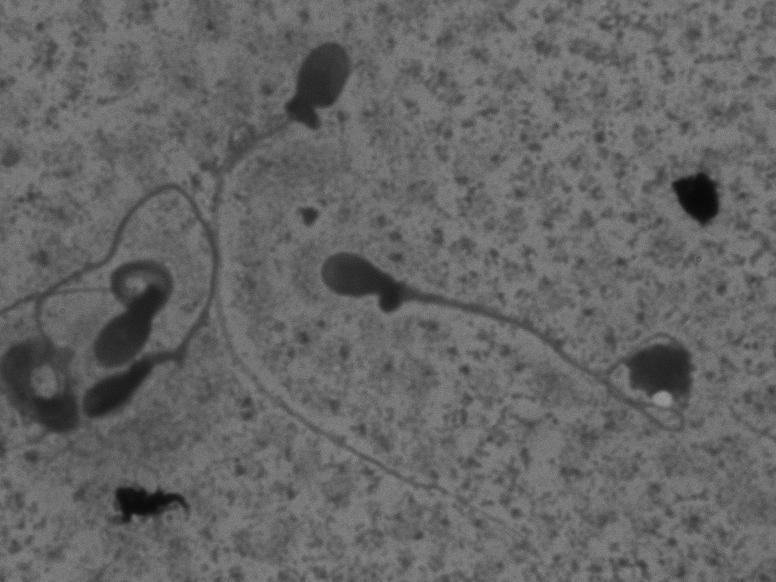Abnormal: (201, 30, 534, 551), (294, 219, 695, 441), (23, 171, 232, 440), (26, 231, 177, 368)
